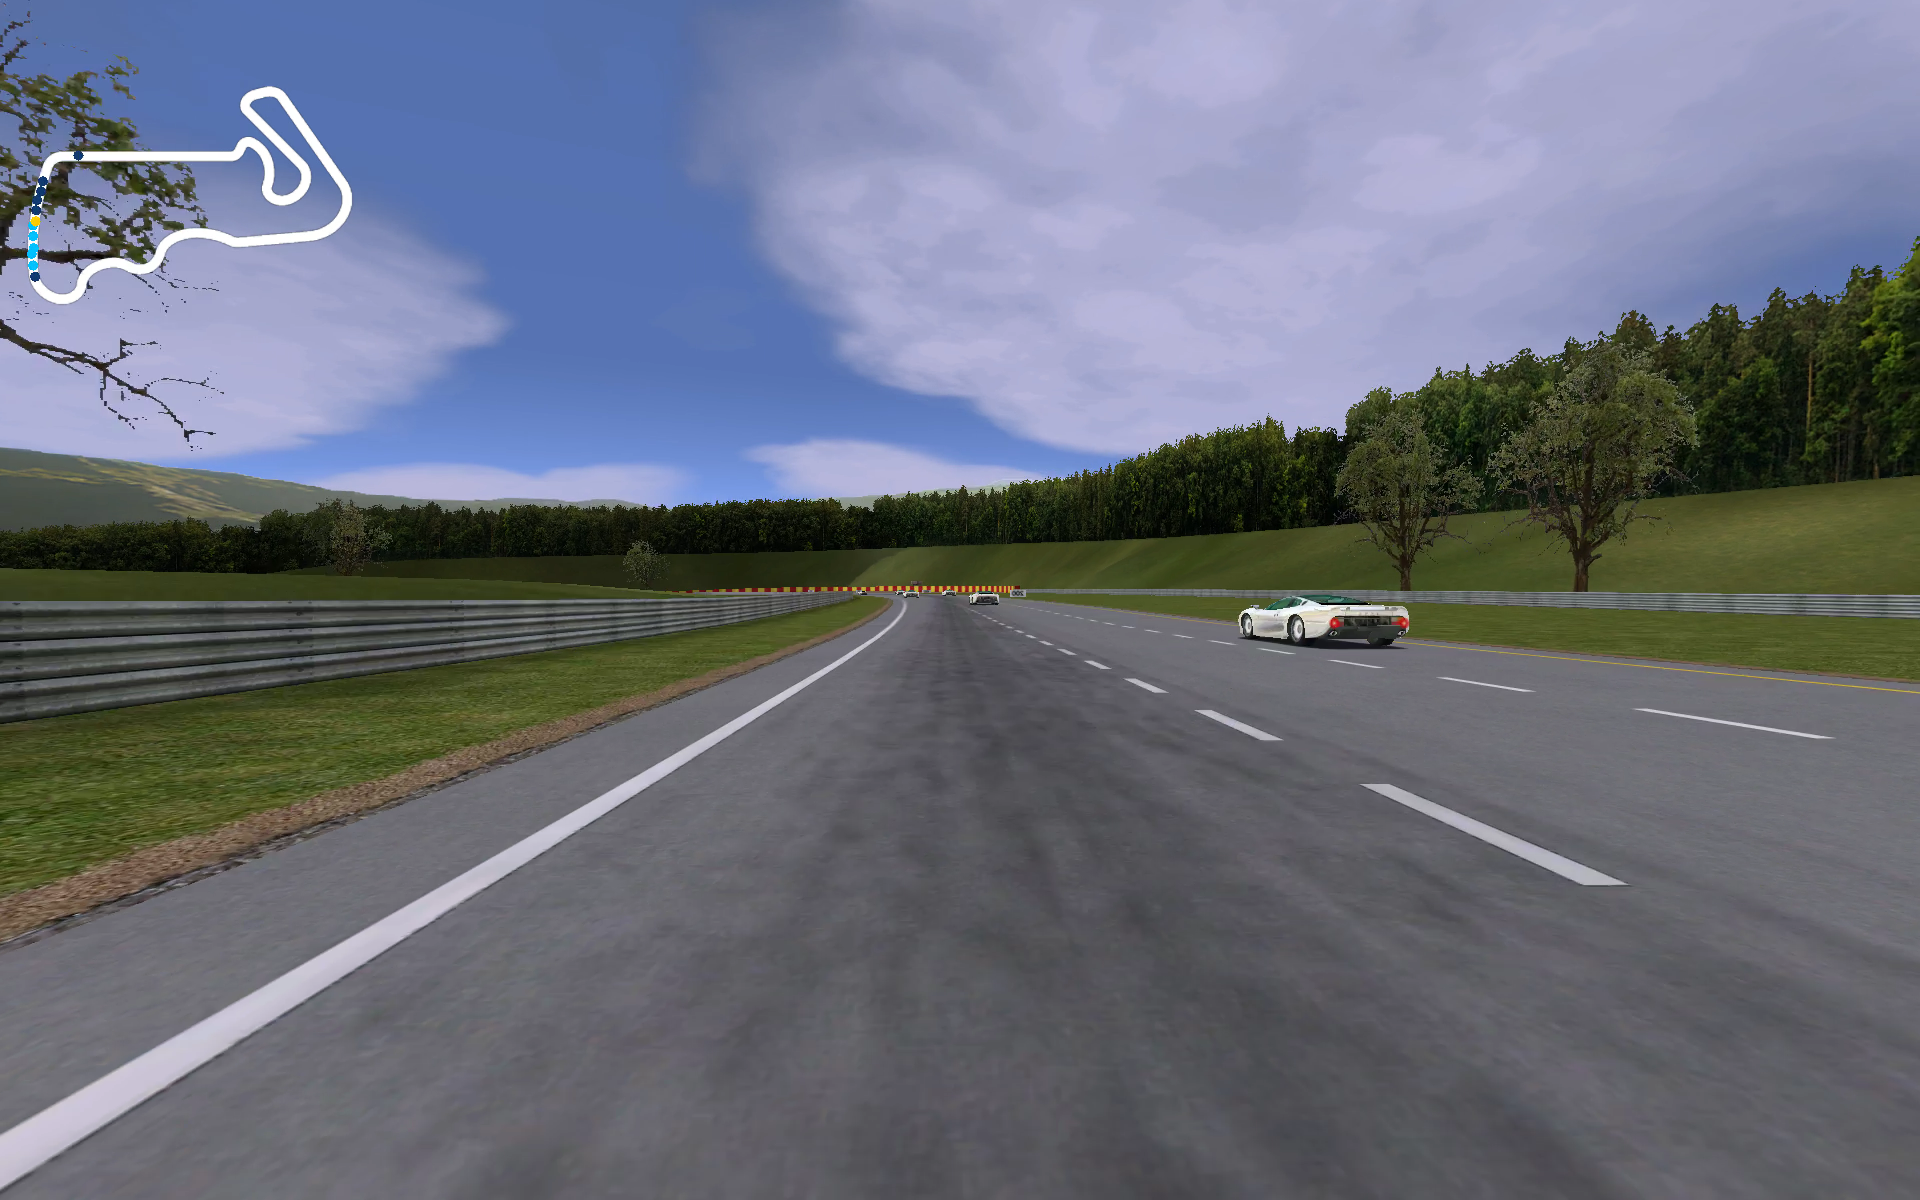car: (1234, 592, 1413, 647)
